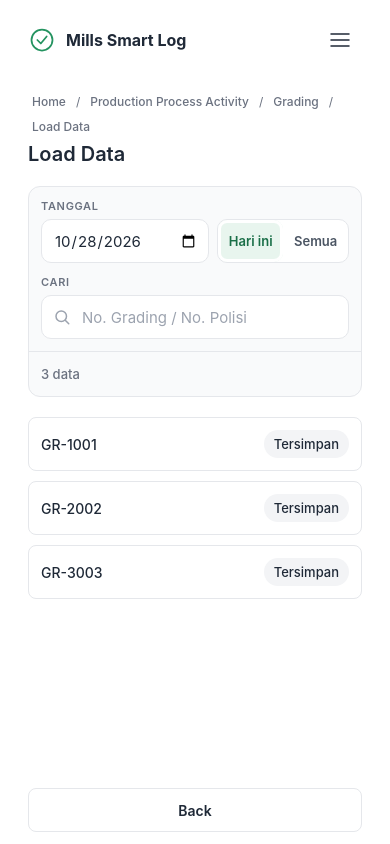
Test: DataPreviewGradingView › filters records by a case-insensitive substring on grading_number or license_plate_no
Matches by grading_number, case-insensitive.
Type "gr-10" into the field with test id "search-filter-input" at (195, 317), box [41,295,349,339]
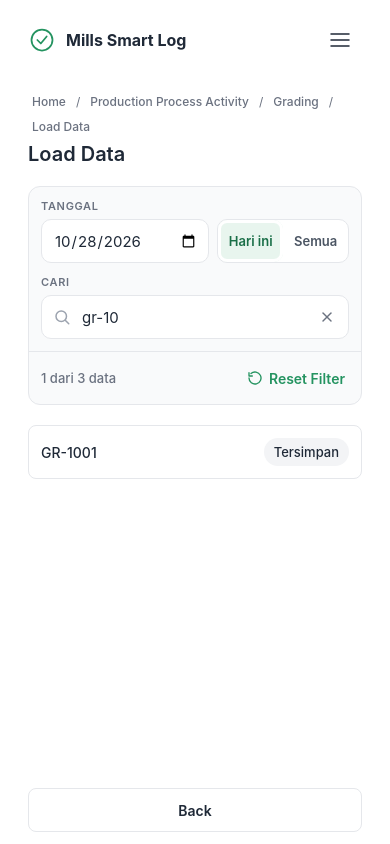
Expected: the button with test id "record-item-rec-number" is shown, [28,425,362,479]
Matches by license_plate_no, case-insensitive.
Replace the text in the field with test id "search-filter-input" with "BUDI" at (195, 317), box [41,295,349,339]
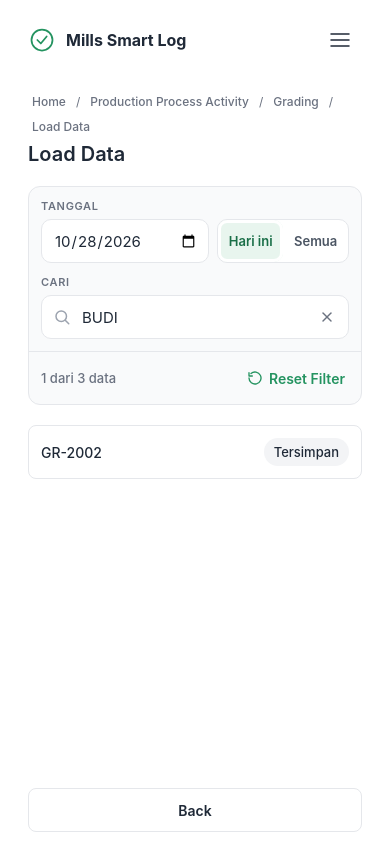
Result: the button with test id "record-item-rec-plate" is shown at [28,425,362,479]
